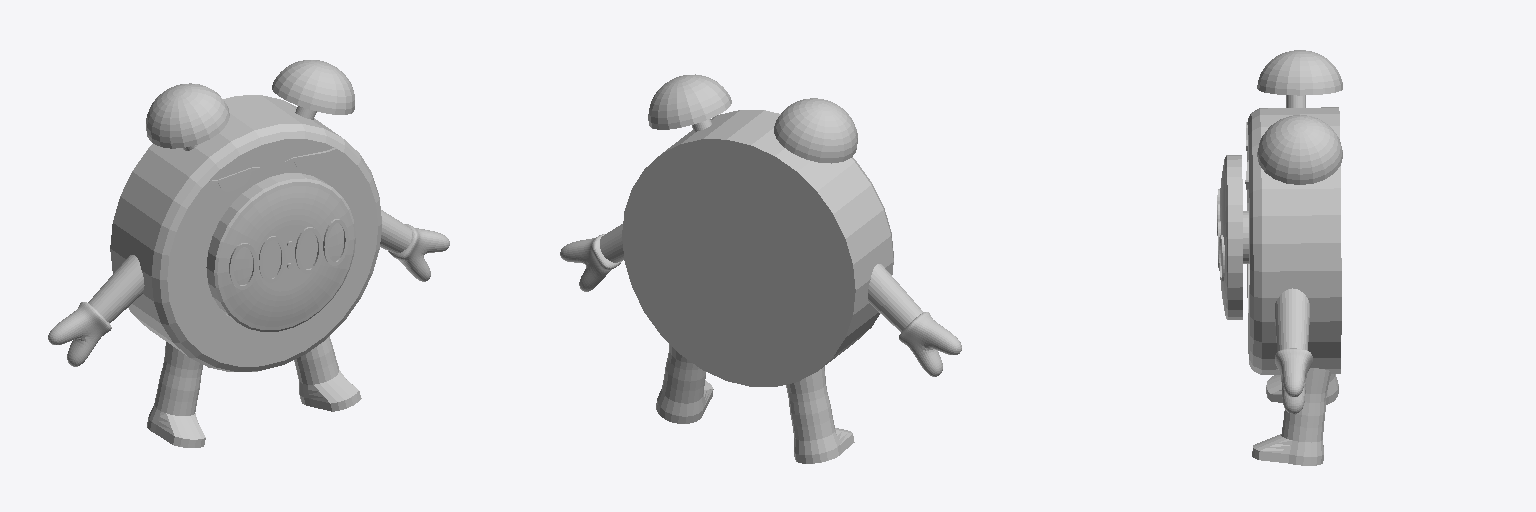
3 views of the same model, side by side, from view 1: azimuth 30°, elevation 25°; view 2: azimuth 150°, elevation 25°; view 3: azimuth 270°, elevation 25° (orthographic).
Parts seen in each view (by area): view 1: 1.008, 柱体.002, 1.003; view 2: 1.008; view 3: 1.008.
Boxes of the visible parts, box(x1,y1,x2,y2) form: 1.008: box(48, 60, 449, 447); 柱体.002: box(229, 219, 348, 289); 1.003: box(209, 147, 336, 191); 1.008: box(560, 74, 961, 463); 1.008: box(1220, 50, 1342, 465).
Bounding box in the file's own units: 14.29 × 11.92 × 3.92.